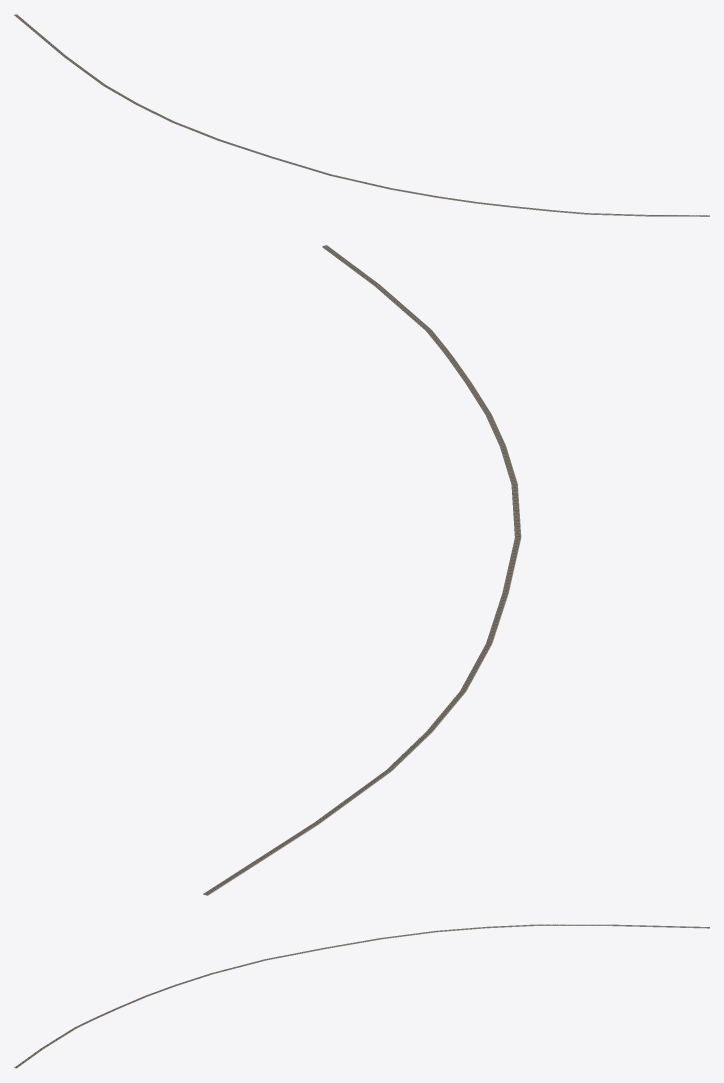
Rendered from rail_01199.glb.
3 views of the same model, one above another, from view 1: azimuth 30°, elevation 25°; view 2: azimuth 150°, elevation 25°; view 3: azimuth 270°, elevation 25° (orthographic). The views are drawn at different scales.
Parts seen in each view (by area): view 1: Ballast, Sleepers, Rails; view 2: Sleepers, Ballast, Rails; view 3: Ballast, Sleepers, Rails.
Boxes of the visible parts, <box> form: Ballast: <box>14,14,709,216</box>; Sleepers: <box>15,14,709,216</box>; Rails: <box>15,15,688,215</box>; Sleepers: <box>204,245,520,894</box>; Ballast: <box>203,246,521,895</box>; Rails: <box>204,245,519,894</box>; Ballast: <box>14,924,709,1068</box>; Sleepers: <box>15,924,707,1068</box>; Rails: <box>16,924,709,1066</box>.
Bounding box in the file's own units: 317 × 0.48 × 648.
